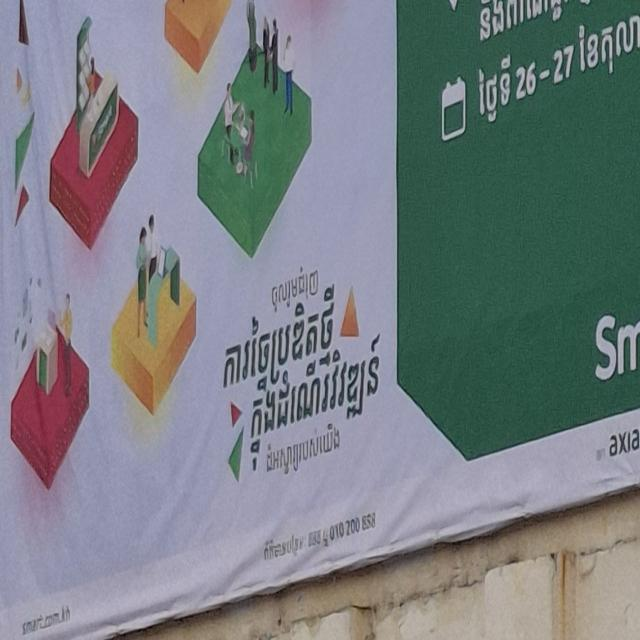58: (462, 6, 638, 167)
Yolov11_80vkh: (200, 321, 391, 470), (209, 278, 340, 399), (247, 238, 324, 318)
